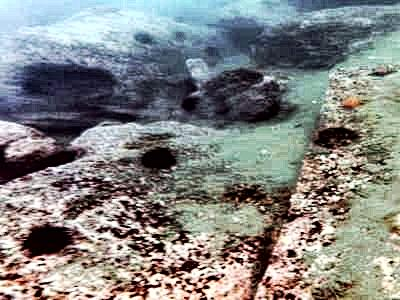urchin: (19, 223, 72, 254), (141, 145, 177, 169)
